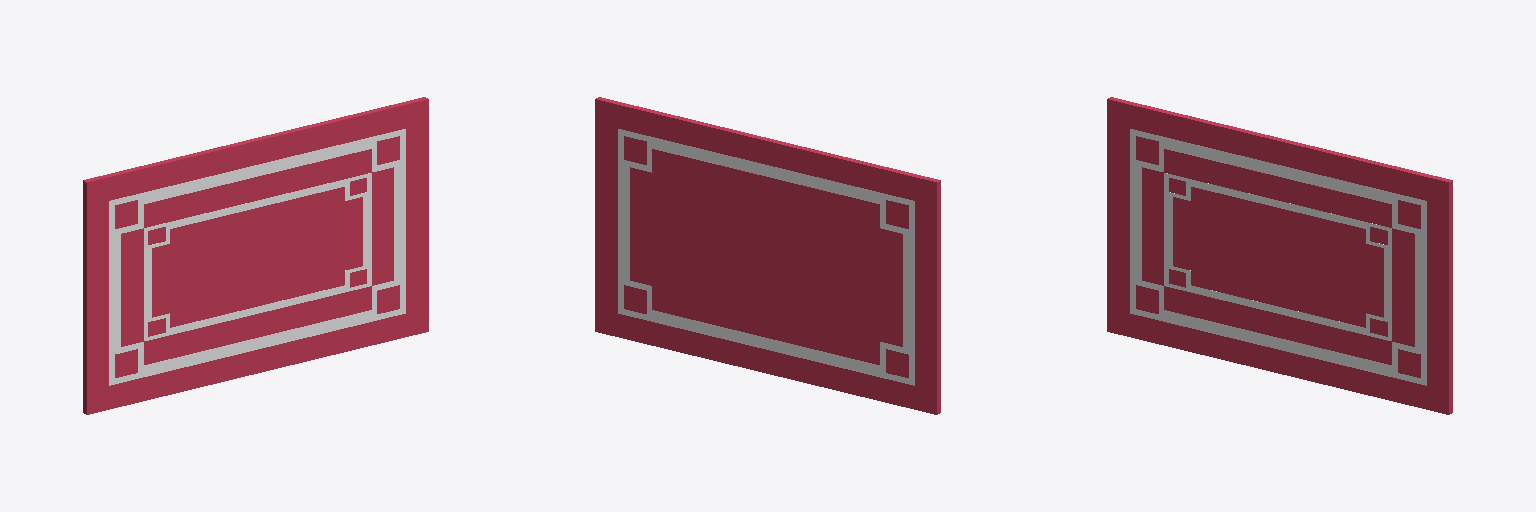
The model's file is tinker.obj.
3 views of the same model, side by side, from view 1: azimuth 30°, elevation 25°; view 2: azimuth 150°, elevation 25°; view 3: azimuth 330°, elevation 25° (orthographic).
Parts seen in each view (by area): view 1: obj_0; view 2: obj_0; view 3: obj_0.
Part boxes in pixels (x1,y1,x2,y2): obj_0: (83, 97, 428, 414); obj_0: (595, 97, 940, 414); obj_0: (1107, 97, 1452, 414).
Bounding box in the file's own units: 60 × 39 × 1.01.